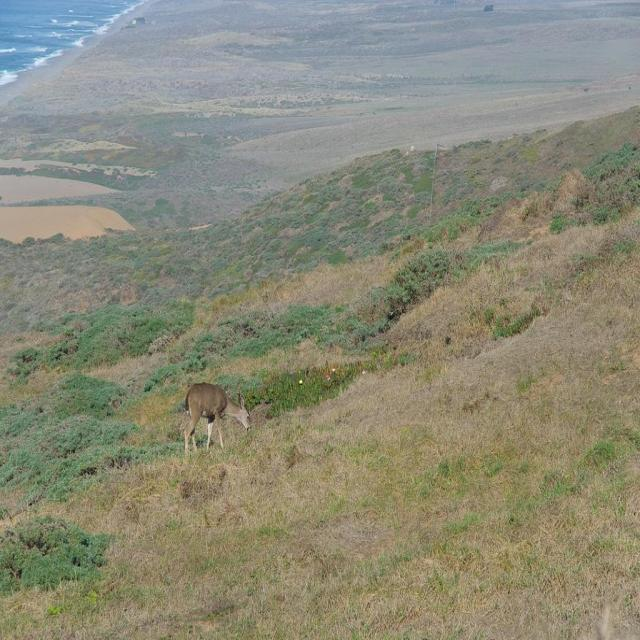Deer: (182, 384, 252, 458)
